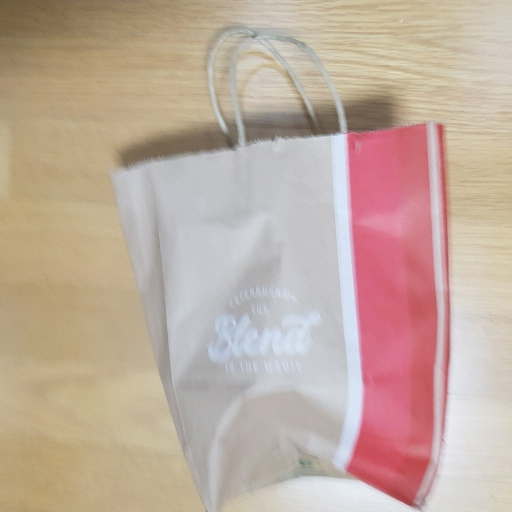Paper_0: (99, 121, 468, 512)
